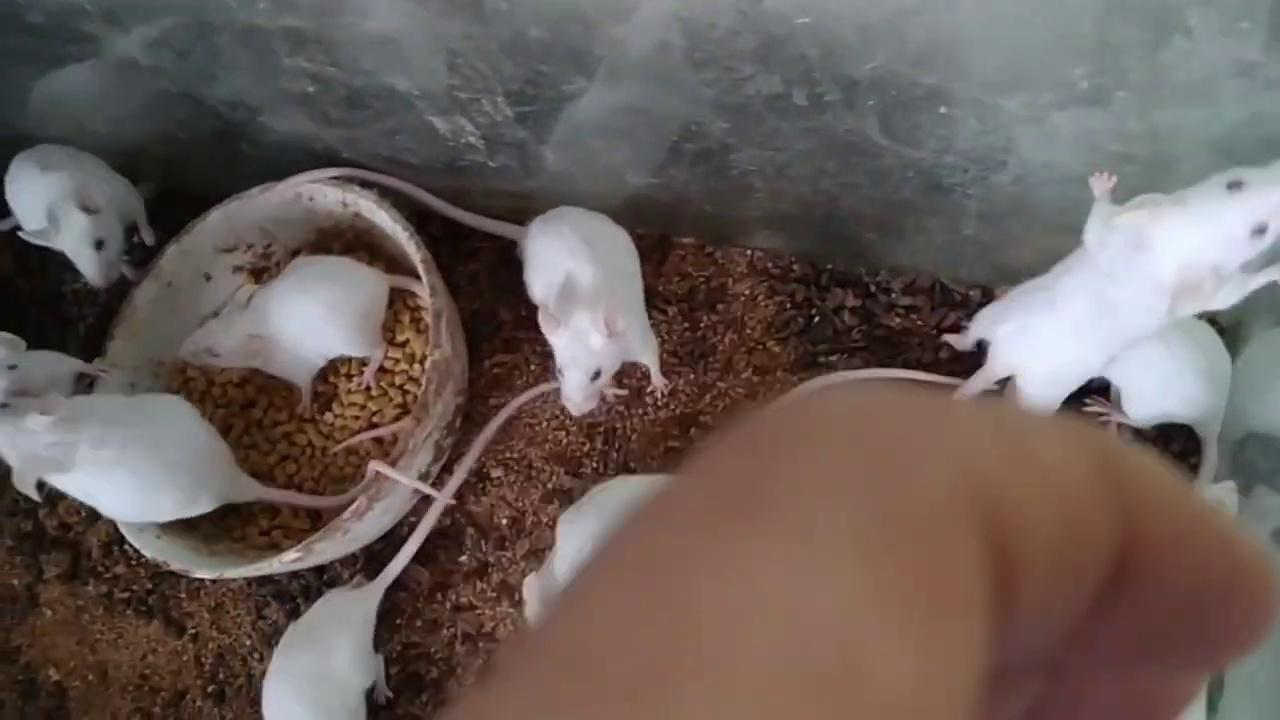rat: (264, 380, 561, 720), (276, 165, 673, 416), (943, 159, 1280, 415), (0, 391, 457, 525), (179, 256, 432, 416), (3, 143, 156, 288), (0, 326, 119, 398)
